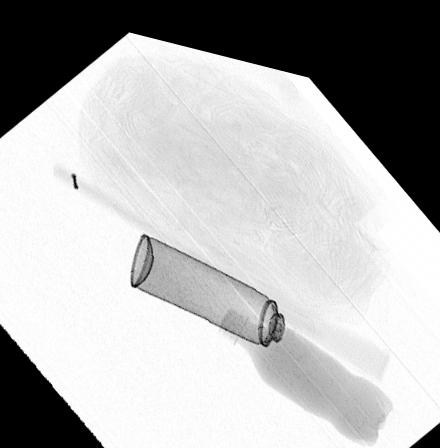Sprayer: (128, 225, 319, 348)
